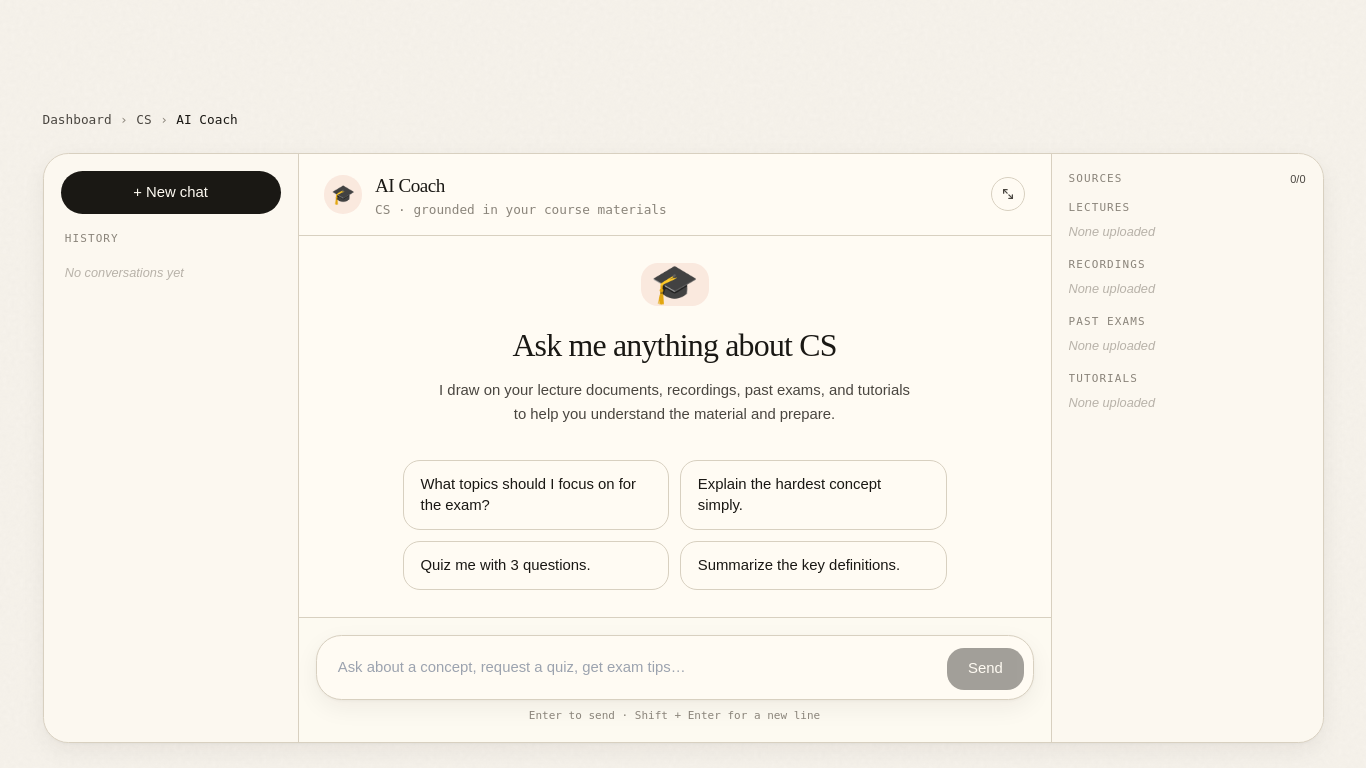
Scenario: tutor request ownership › keeps failed tutor turns out of persisted history and restores the draft for retry
Click the button "Explain the hardest concept simply.".
click(790, 484)  # box [680,460,946,530]
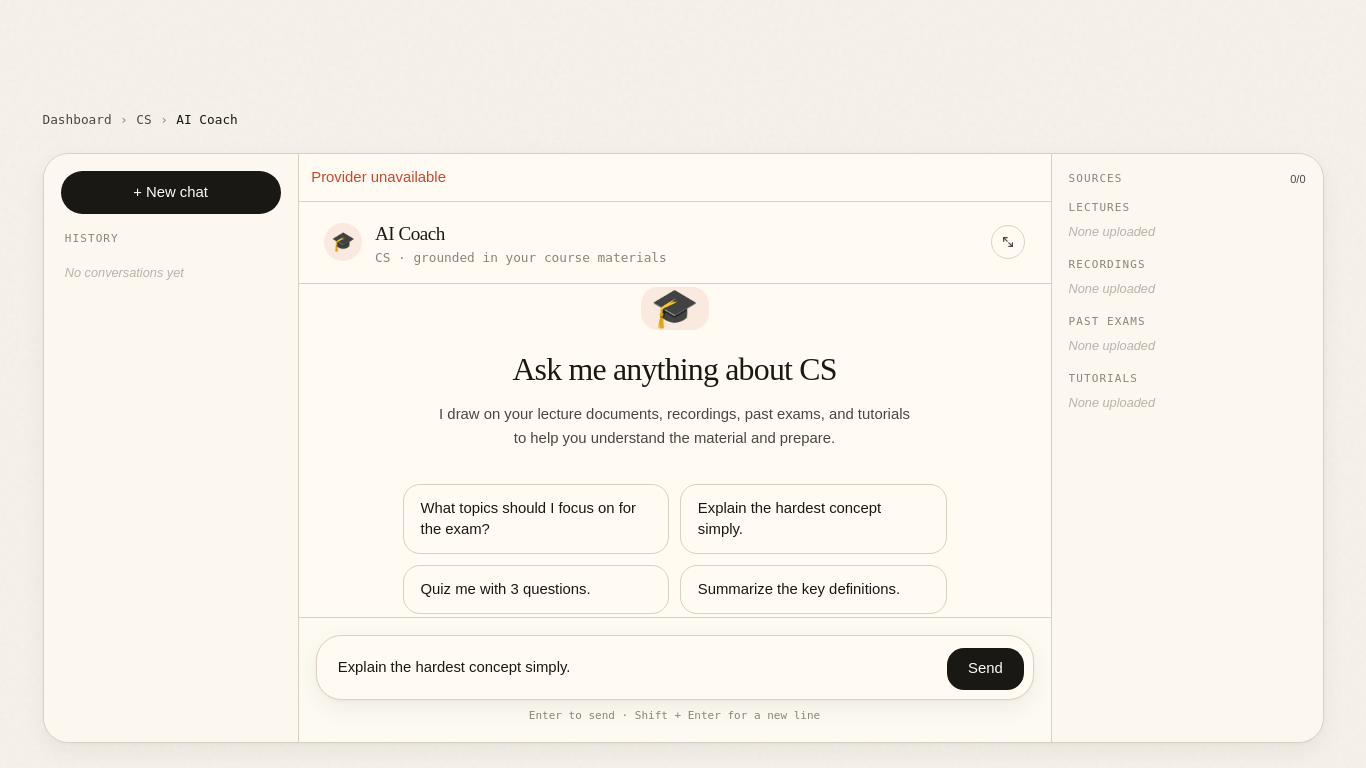
Check: the message "Provider unavailable" is shown, box [298,154,1050,202]
Check: the text box holds "Explain the hardest concept simply.", box [325,645,936,690]
Click the button "Send".
click(985, 669)  # box [947,648,1024,690]
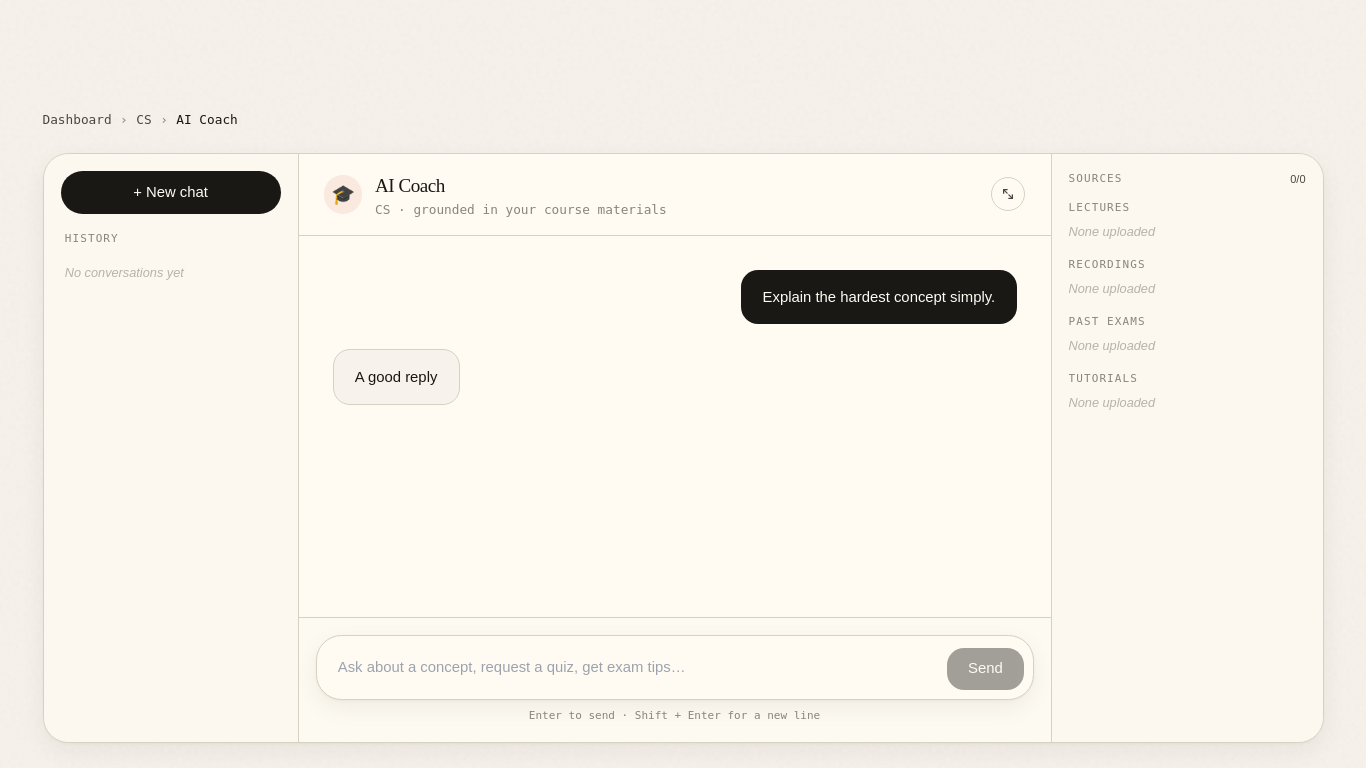
Check: the text "A good reply" is shown, box [355,365,437,389]
